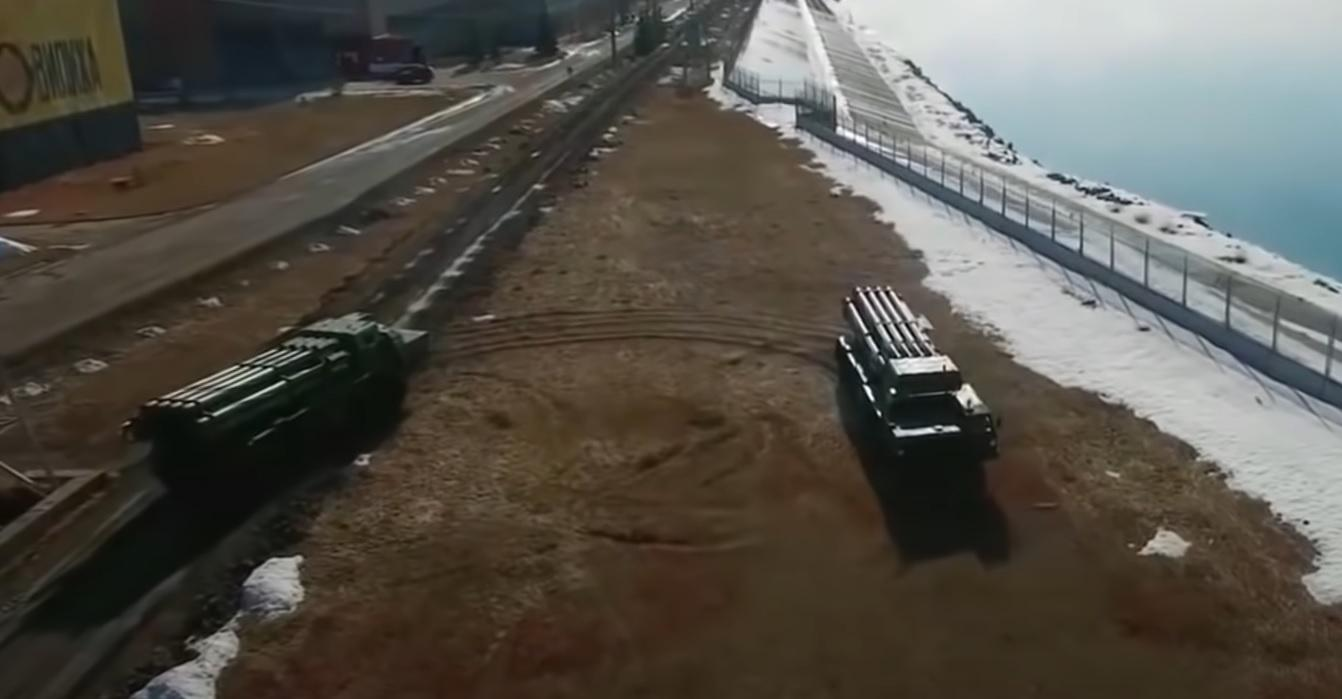MIL_SAM_TEL: (125, 300, 432, 512), (836, 274, 1007, 478)
